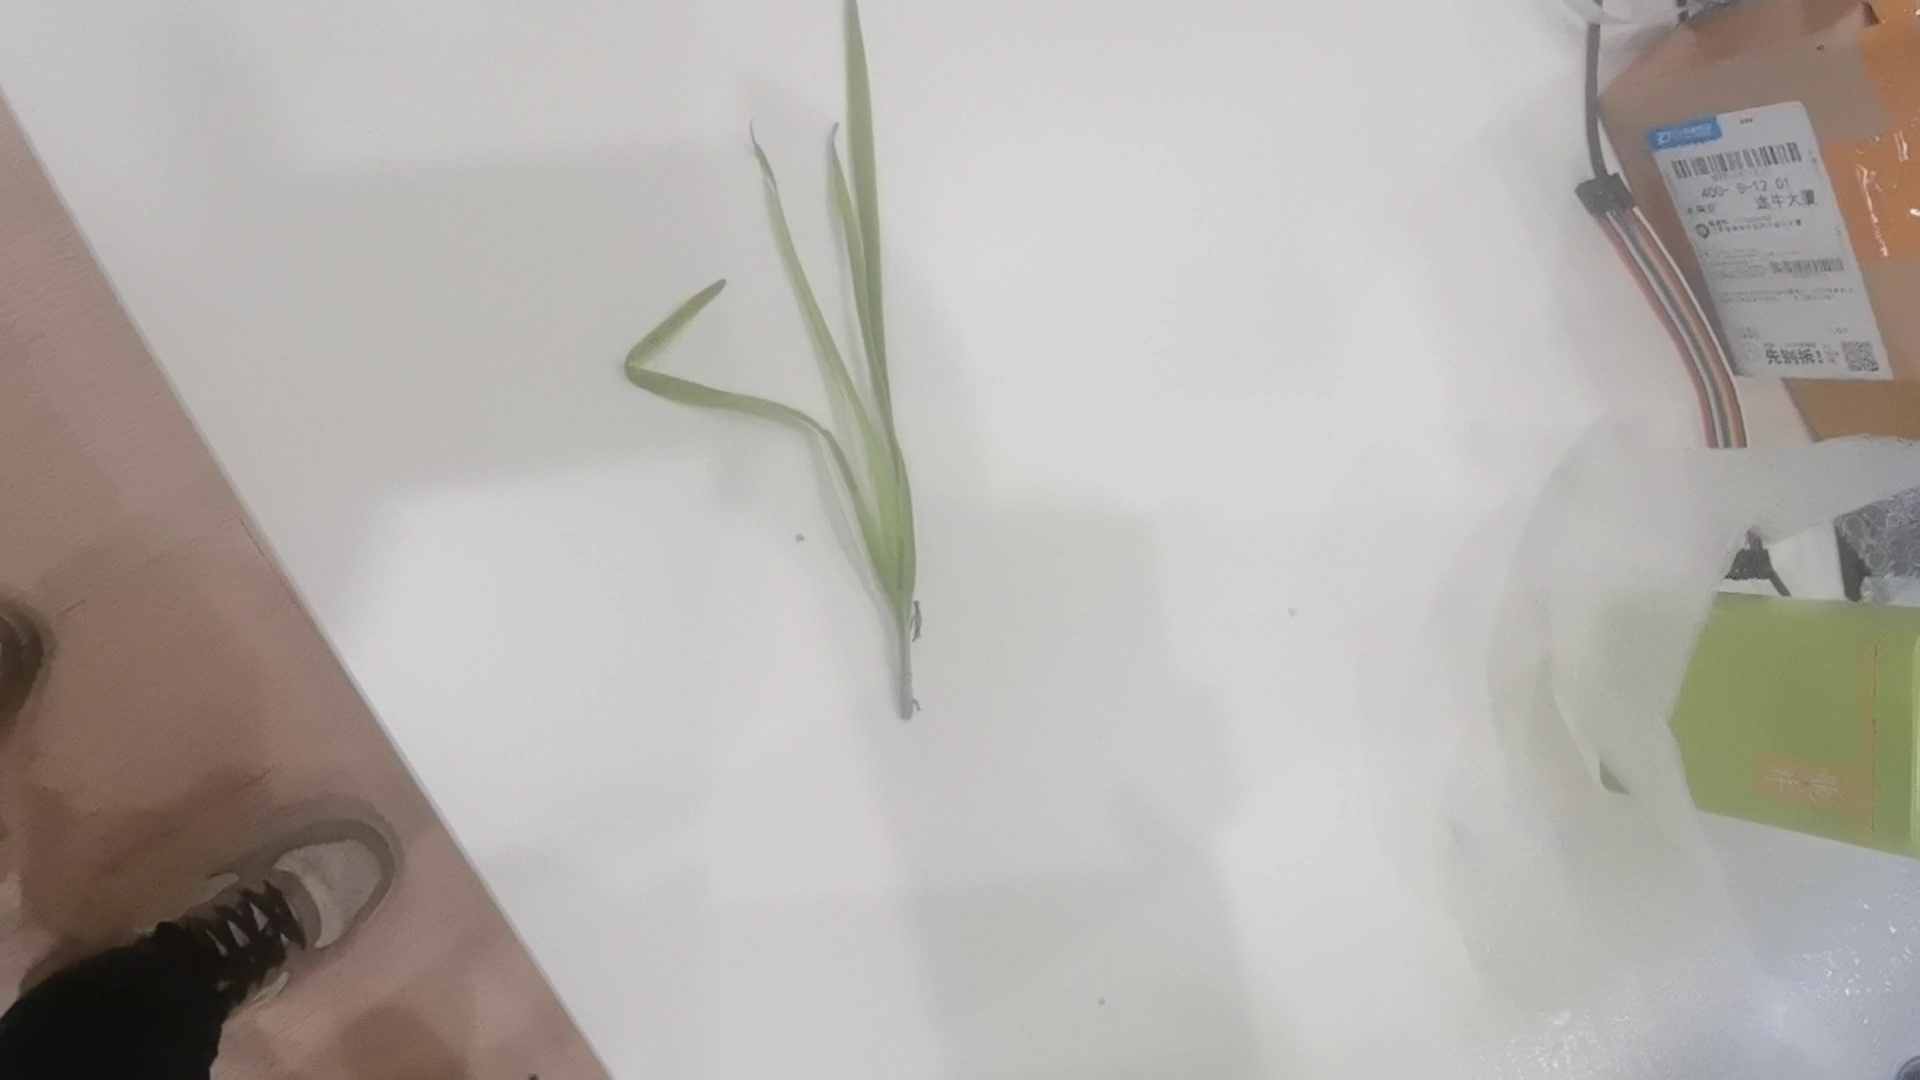chives: (630, 1, 938, 723)
